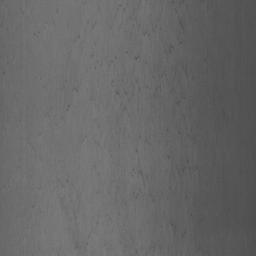Silk spot: (131, 168, 152, 187), (73, 232, 88, 251), (172, 165, 193, 177), (129, 8, 141, 27), (164, 44, 174, 59), (151, 84, 161, 98), (176, 92, 186, 106), (178, 16, 185, 34), (170, 220, 177, 236), (60, 195, 67, 210)
